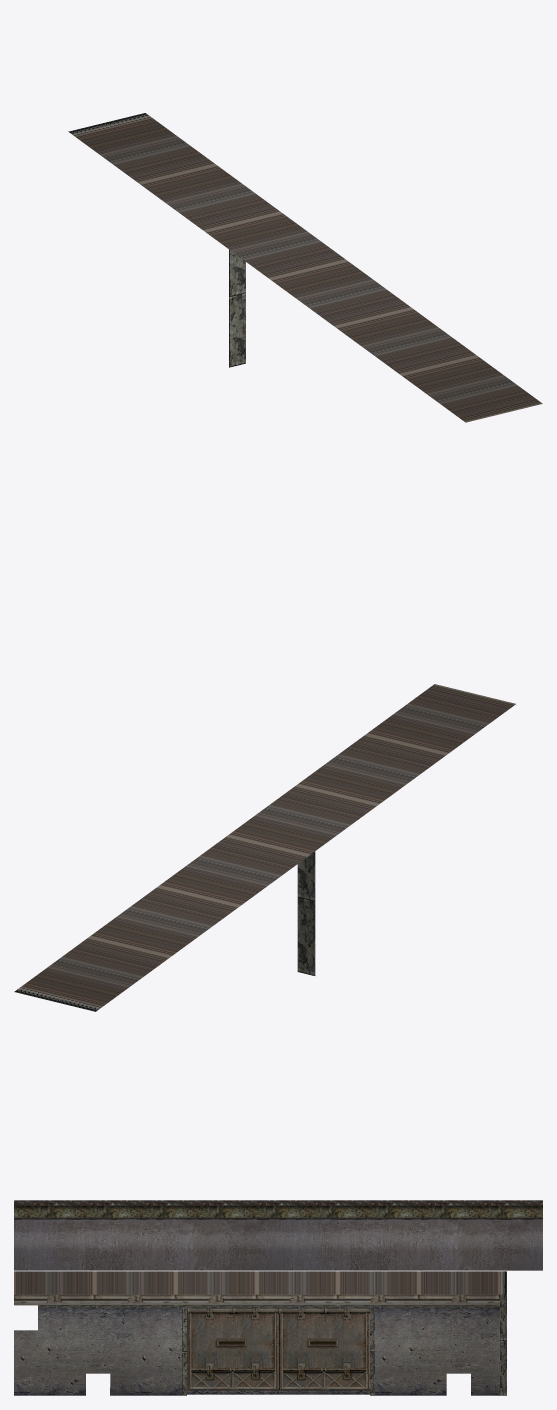
File: M10_Z1_RoadGate02.glb
3 views of the same model, one above another, from view 1: azimuth 30°, elevation 25°; view 2: azimuth 150°, elevation 25°; view 3: azimuth 270°, elevation 25° (orthographic). The views are drawn at different scales.
Parts seen in each view (by area): view 1: M10_Z1_ROADGATE02; view 2: M10_Z1_ROADGATE02; view 3: M10_Z1_ROADGATE02.
Boxes of the visible parts, bbox=[...] form: M10_Z1_ROADGATE02: bbox=[68, 113, 542, 422]; M10_Z1_ROADGATE02: bbox=[14, 684, 515, 1011]; M10_Z1_ROADGATE02: bbox=[14, 1200, 542, 1395].
Bounding box in the file's own units: 3.05 × 7.87 × 22.
5 materials, 5 textured.
